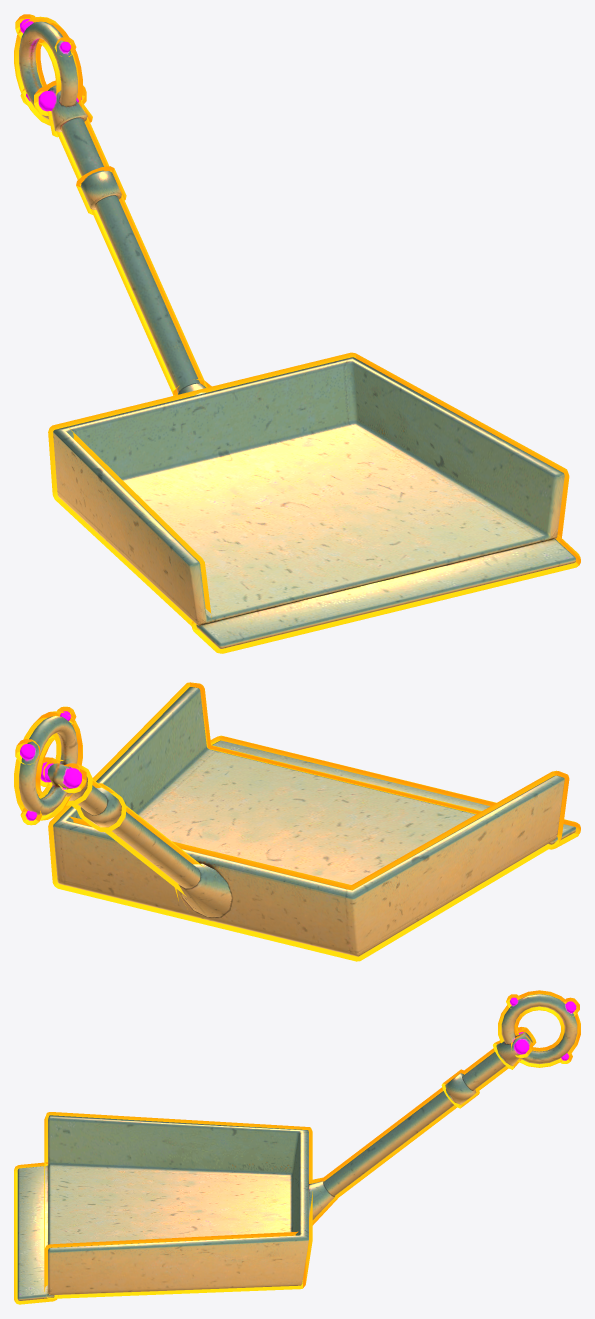
File: Gold_Dustpan.glb
3 views of the same model, one above another, from view 1: azimuth 30°, elevation 25°; view 2: azimuth 150°, elevation 25°; view 3: azimuth 270°, elevation 25° (orthographic). The views are drawn at different scales.
Parts seen in each view (by area): view 1: Dustpan_Wall_B, Dustpan_Wall_B.001; view 2: Dustpan_Wall_B, Dustpan_Wall_B.001; view 3: Dustpan_Wall_B, Dustpan_Wall_B.001.
Boxes of the visible parts, x1,y1,x2,y2 form: Dustpan_Wall_B: (19, 19, 575, 648); Dustpan_Wall_B.001: (14, 14, 580, 653); Dustpan_Wall_B: (19, 687, 575, 956); Dustpan_Wall_B.001: (14, 682, 580, 961); Dustpan_Wall_B: (17, 994, 577, 1300); Dustpan_Wall_B.001: (14, 990, 580, 1304).
Bounding box in the file's own units: 0.4423 × 0.3686 × 0.7598.
2 materials, 1 textured.
